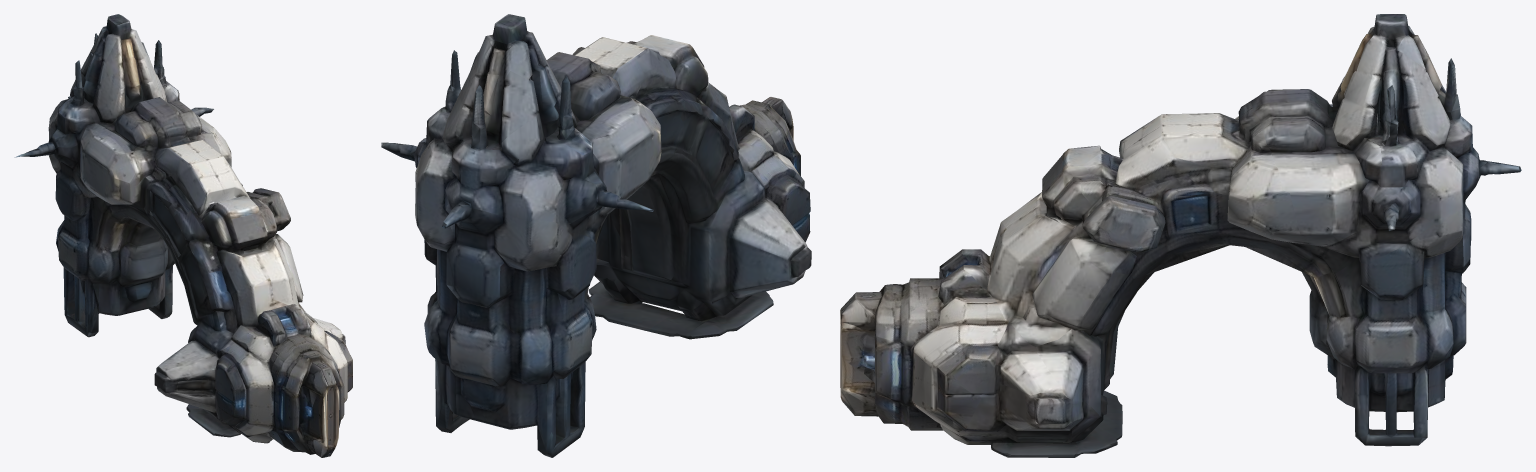
Rendered from jump_gate_extra_section.glb.
3 views of the same model, side by side, from view 1: azimuth 30°, elevation 25°; view 2: azimuth 150°, elevation 25°; view 3: azimuth 270°, elevation 25° (orthographic). The views are drawn at different scales.
Parts seen in each view (by area): view 1: JumpGateExtra; view 2: JumpGateExtra; view 3: JumpGateExtra.
Part boxes in pixels (x1,y1,x2,y2): JumpGateExtra: [14, 14, 352, 457]; JumpGateExtra: [381, 14, 811, 457]; JumpGateExtra: [840, 14, 1521, 457].
Bounding box in the file's own units: 0.29 × 0.4211 × 0.642.
1 material, 1 textured.
